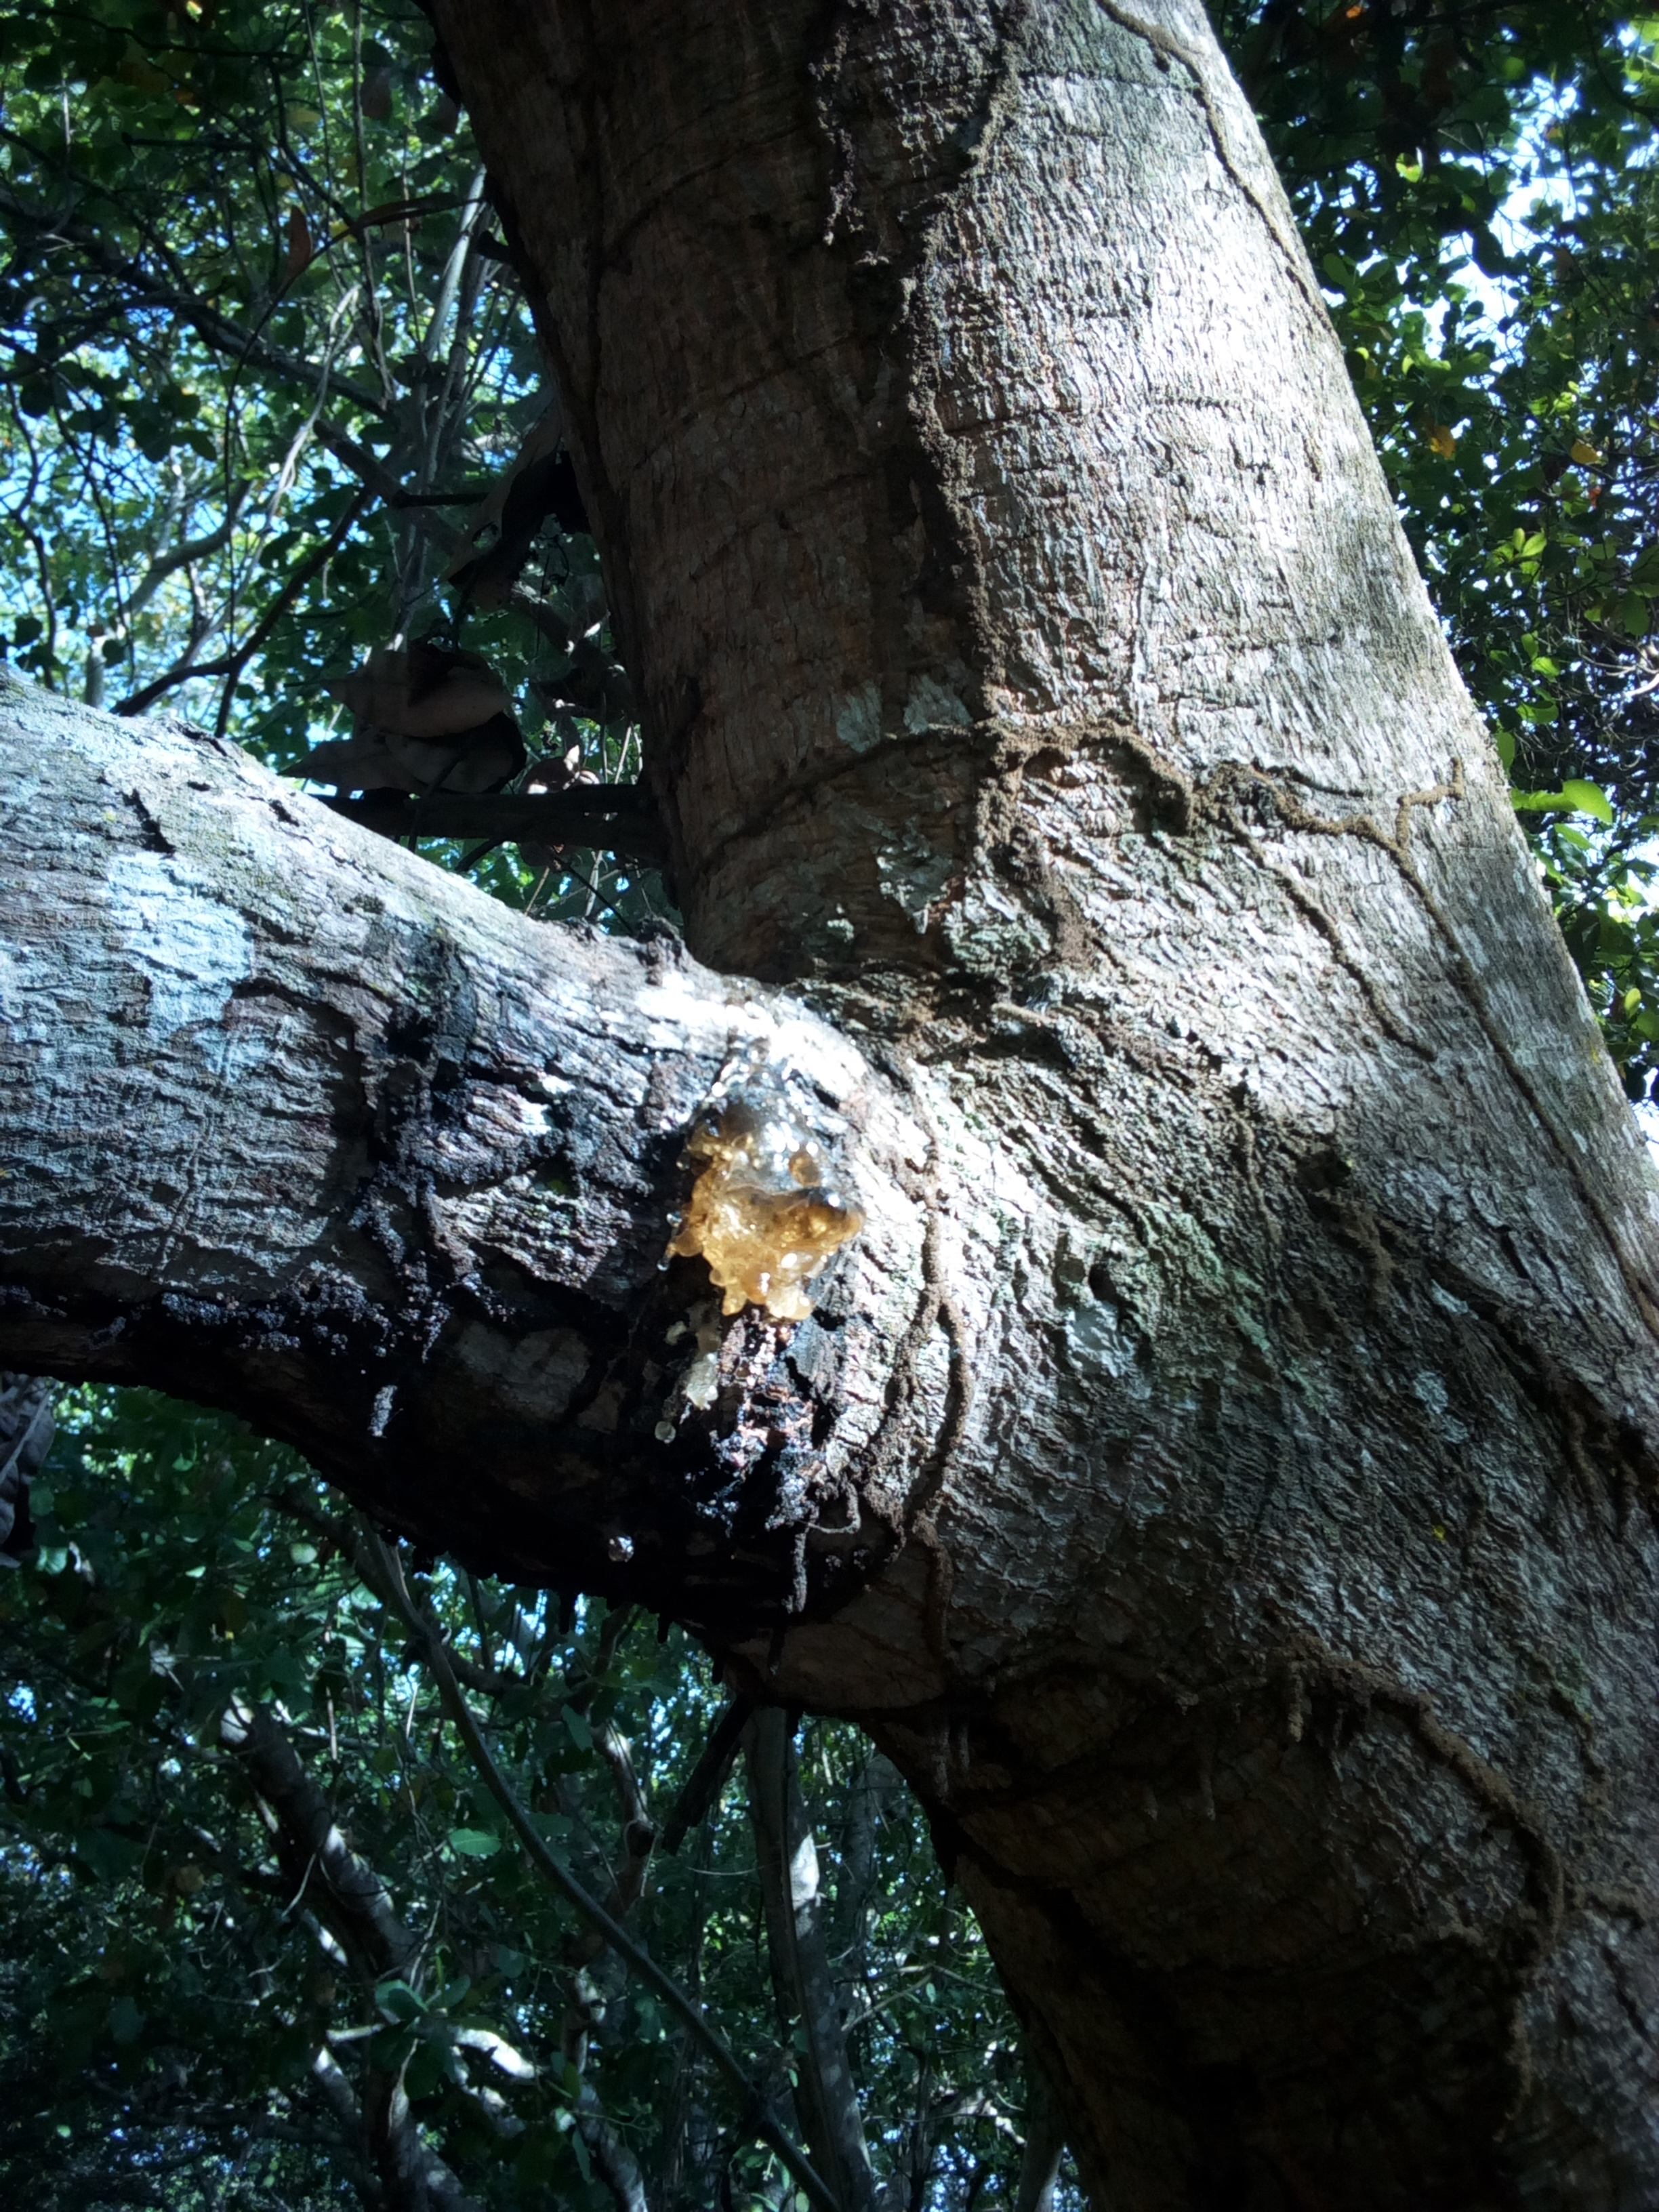Termites: (861, 19, 1229, 869), (1070, 1615, 1601, 2102), (1328, 1139, 1659, 1522)
